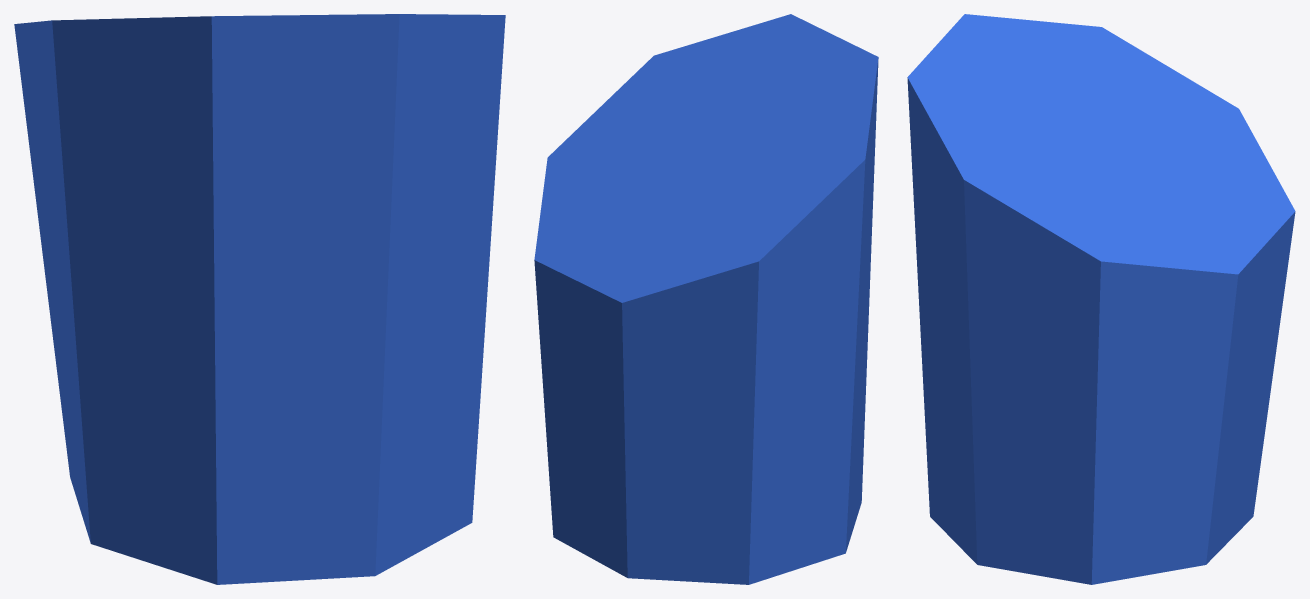
Rendered from Collision_Candle_1.fbx.
3 renders of one model, left to right at view 1: azimuth 30°, elevation 25°; view 2: azimuth 150°, elevation 25°; view 3: azimuth 270°, elevation 25°, orthographic. The views are drawn at different scales.
Visible parts, largest first — view 1: UCX_Candle_1_1; view 2: UCX_Candle_1_1; view 3: UCX_Candle_1_1.
Boxes of the visible parts, x1,y1,x2,y2 form: UCX_Candle_1_1: (14, 14, 505, 584); UCX_Candle_1_1: (534, 14, 878, 584); UCX_Candle_1_1: (907, 14, 1295, 584).
Bounding box in the file's own units: 10.35 × 13.77 × 10.78.
